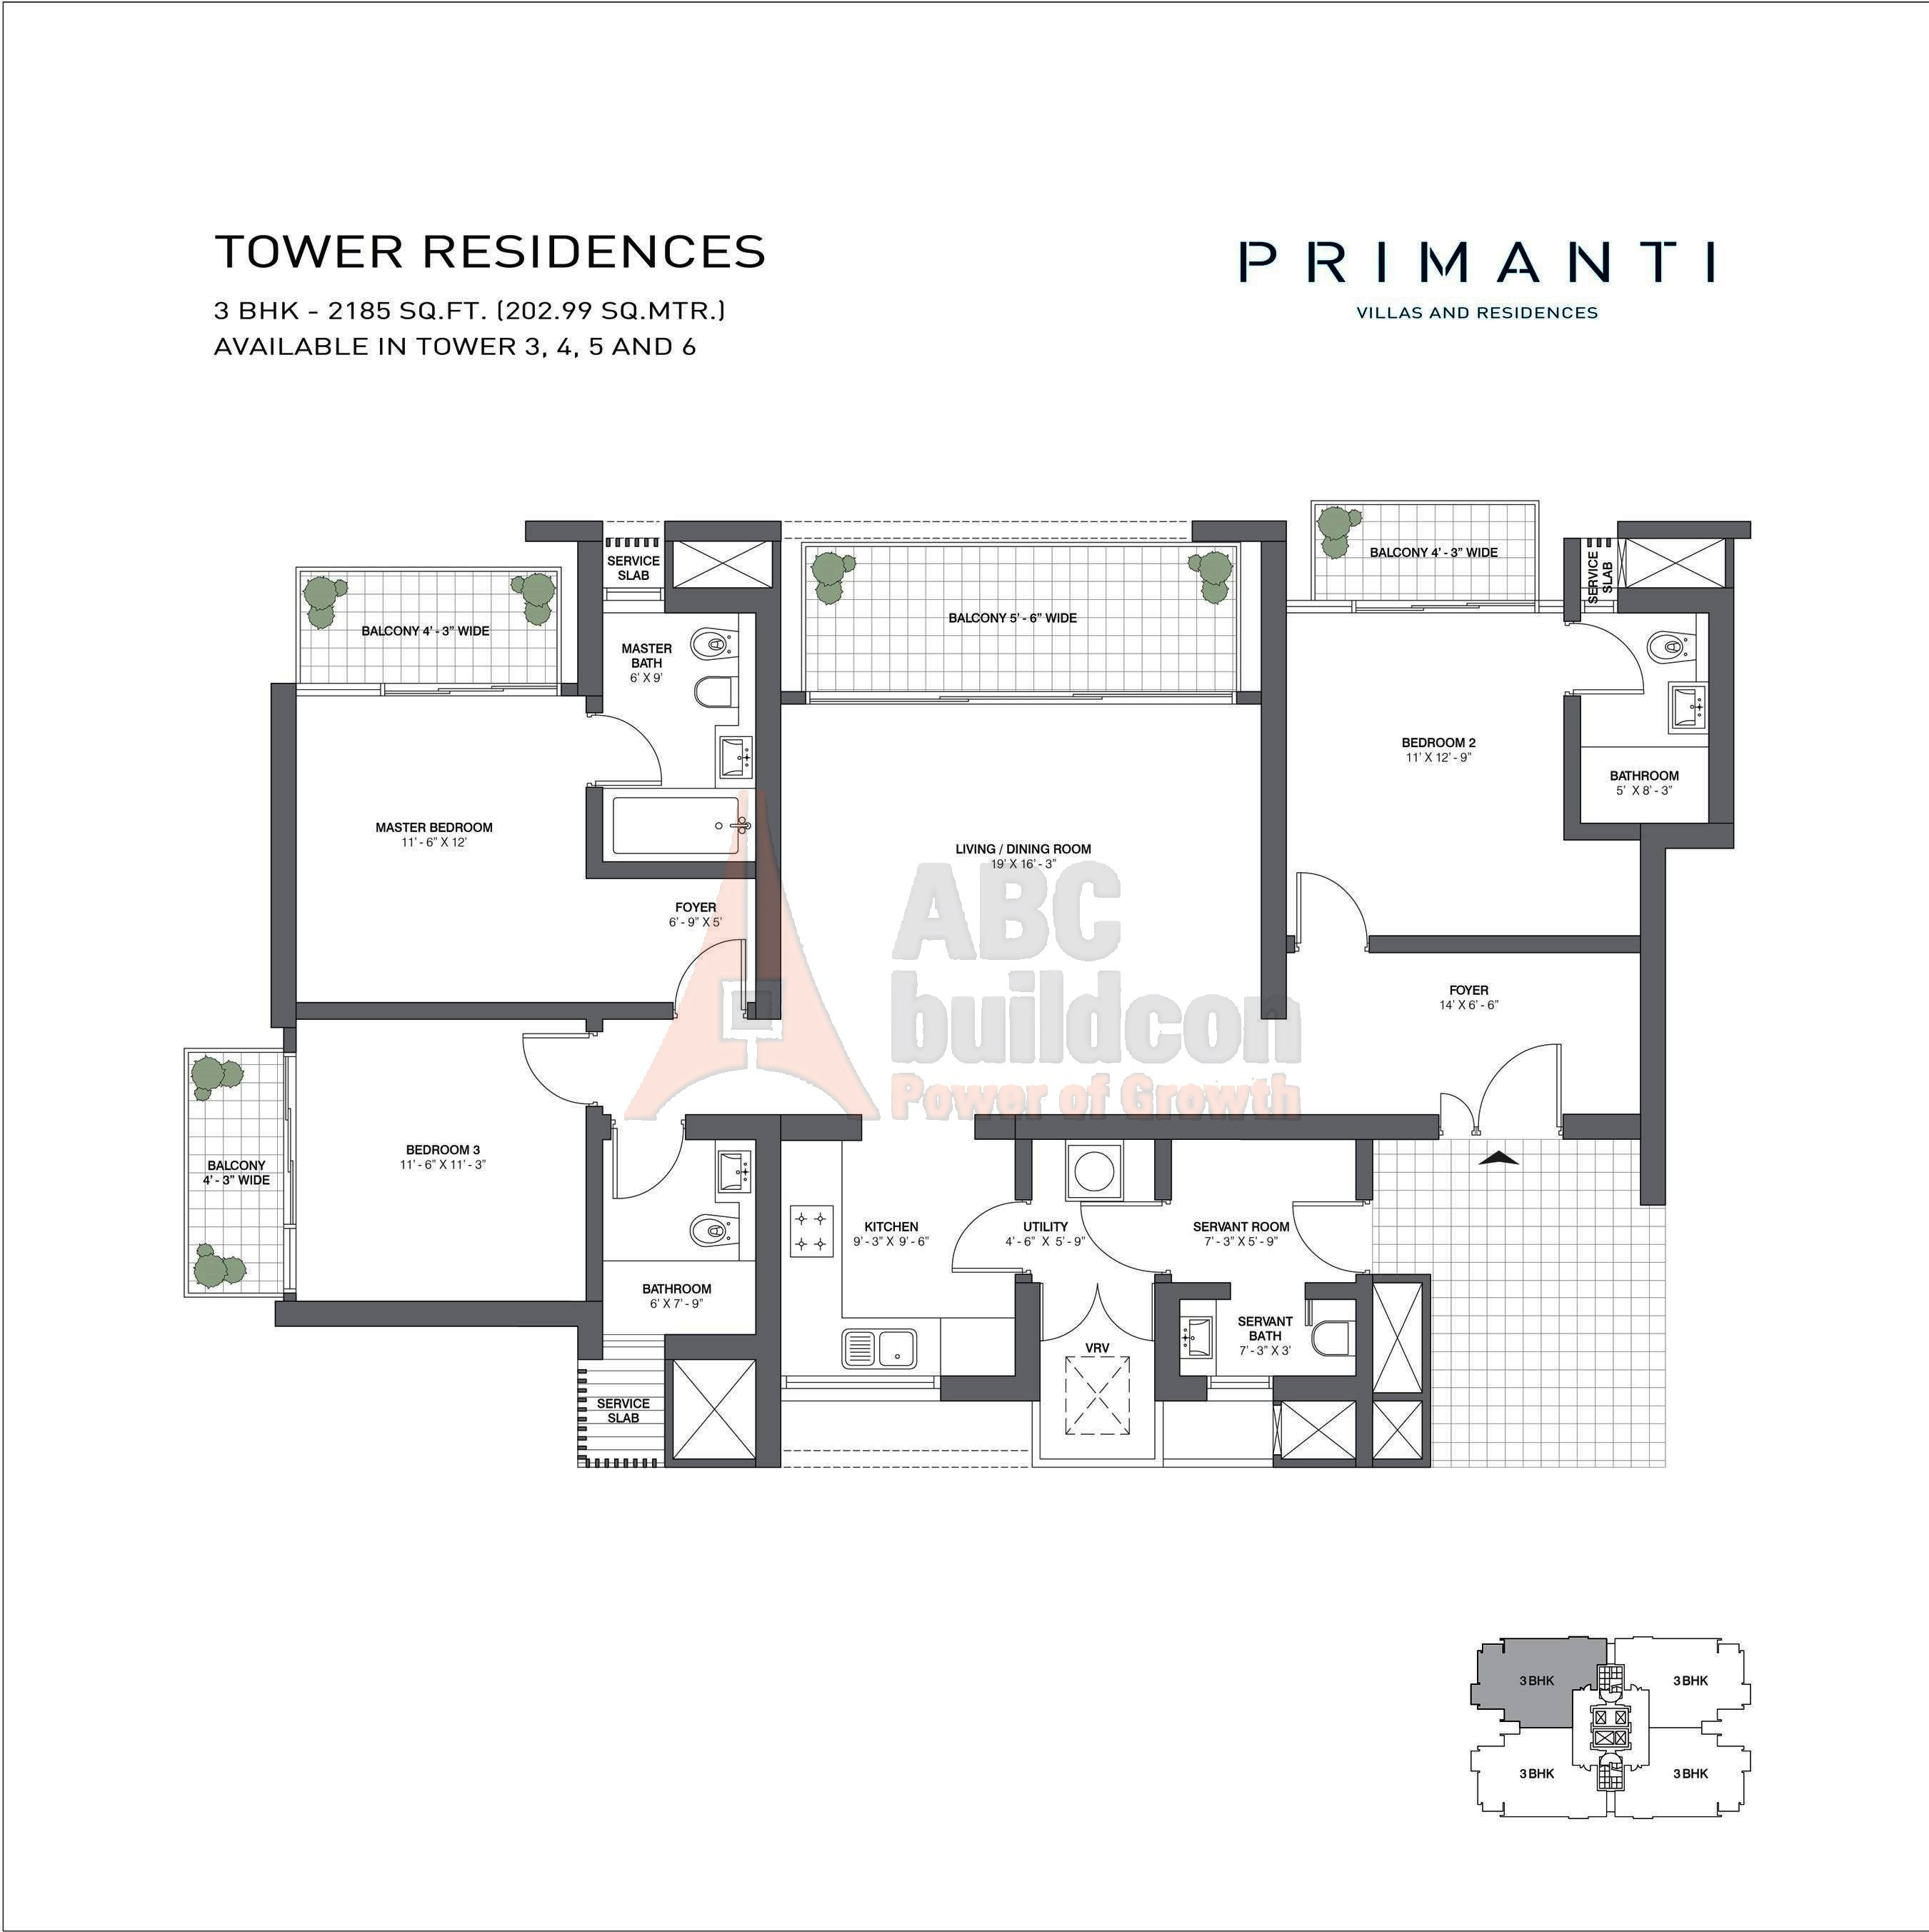door: (1440, 1035, 1562, 1127), (1040, 1280, 1154, 1342), (1078, 1203, 1154, 1275), (1576, 622, 1648, 696), (949, 1197, 1014, 1279), (1290, 1196, 1353, 1279), (519, 1028, 583, 1109), (615, 1130, 684, 1203), (1291, 867, 1367, 931), (675, 934, 751, 998), (606, 712, 664, 786)
